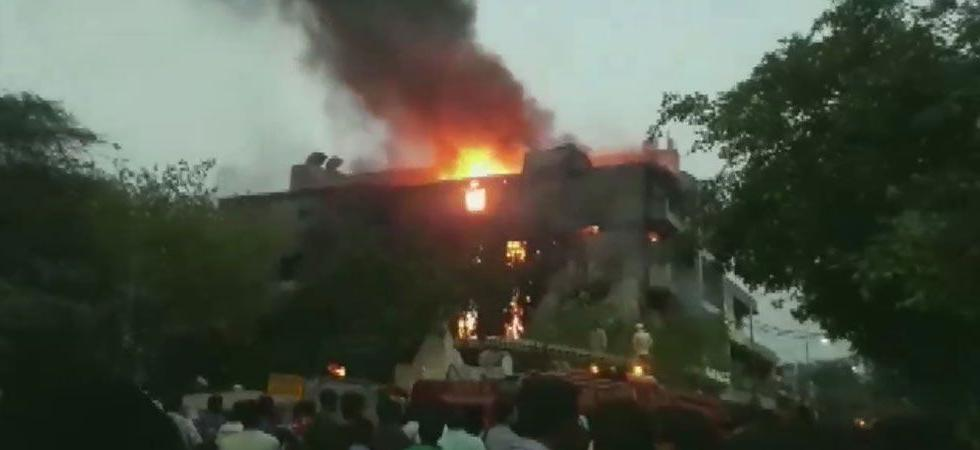fire: (445, 142, 518, 217), (503, 295, 530, 344), (451, 300, 482, 341)
